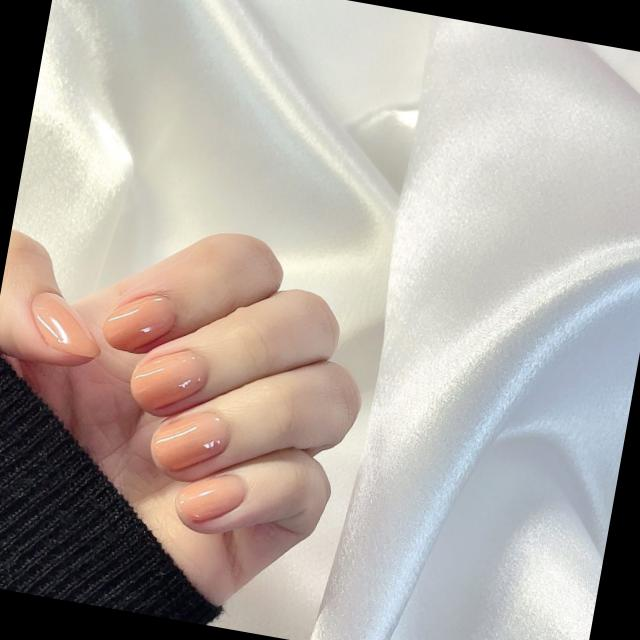Nail: (150, 412, 229, 470), (31, 292, 100, 358), (130, 350, 207, 409), (102, 294, 175, 351), (176, 475, 245, 521)
